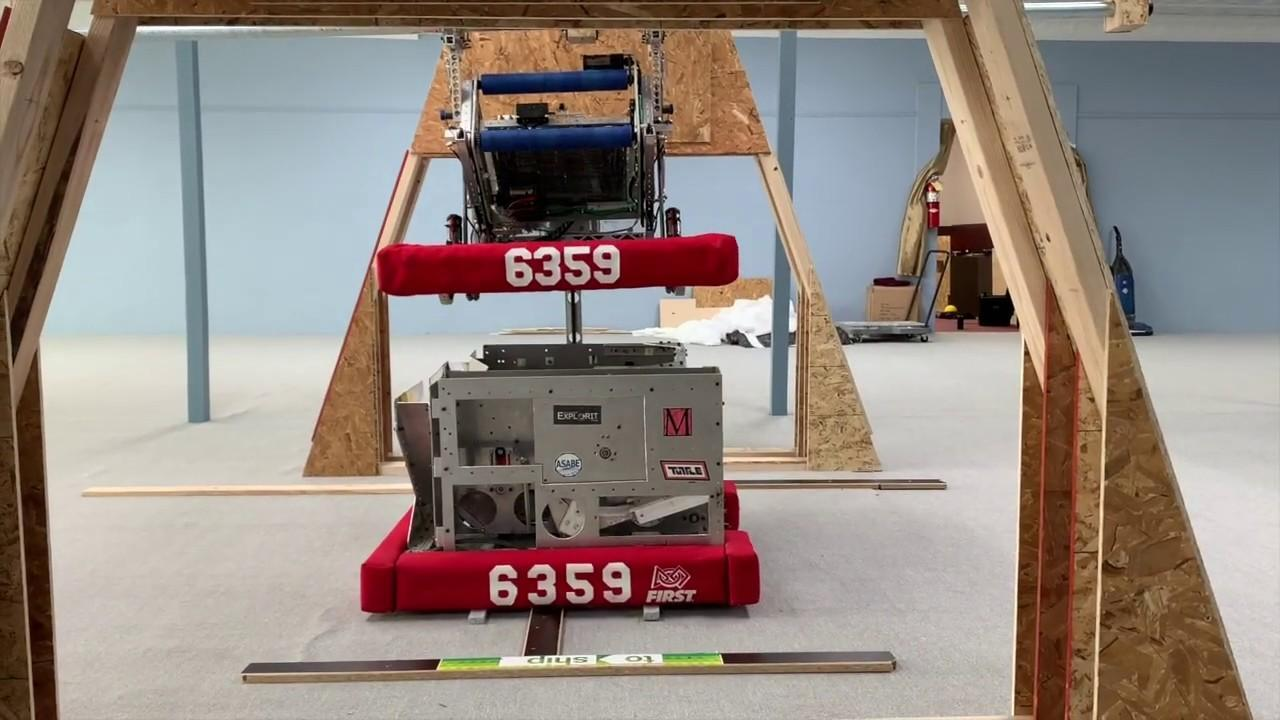robot: (348, 316, 770, 624), (370, 21, 744, 299)
